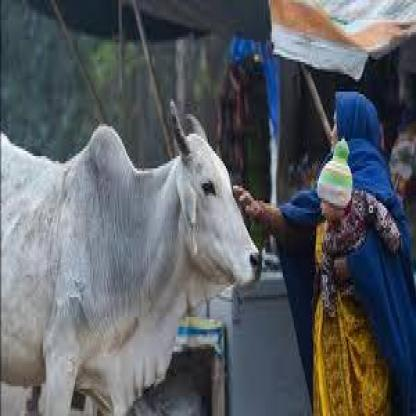cow: (0, 131, 259, 416)
